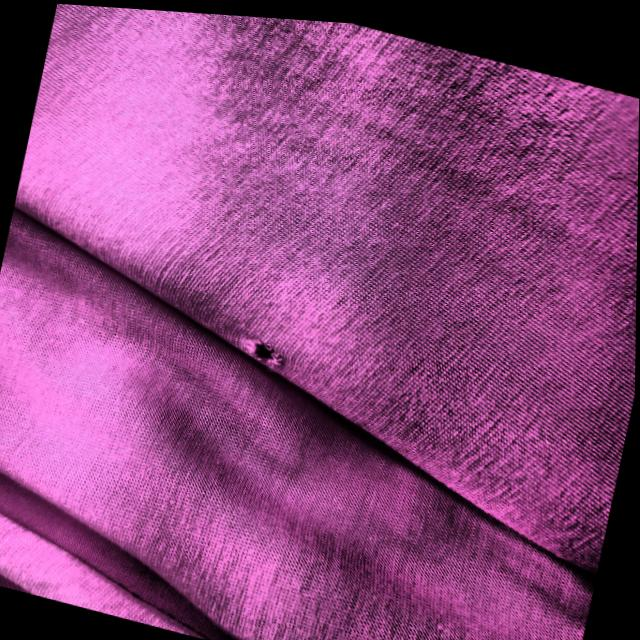Hole: (235, 329, 300, 379)
